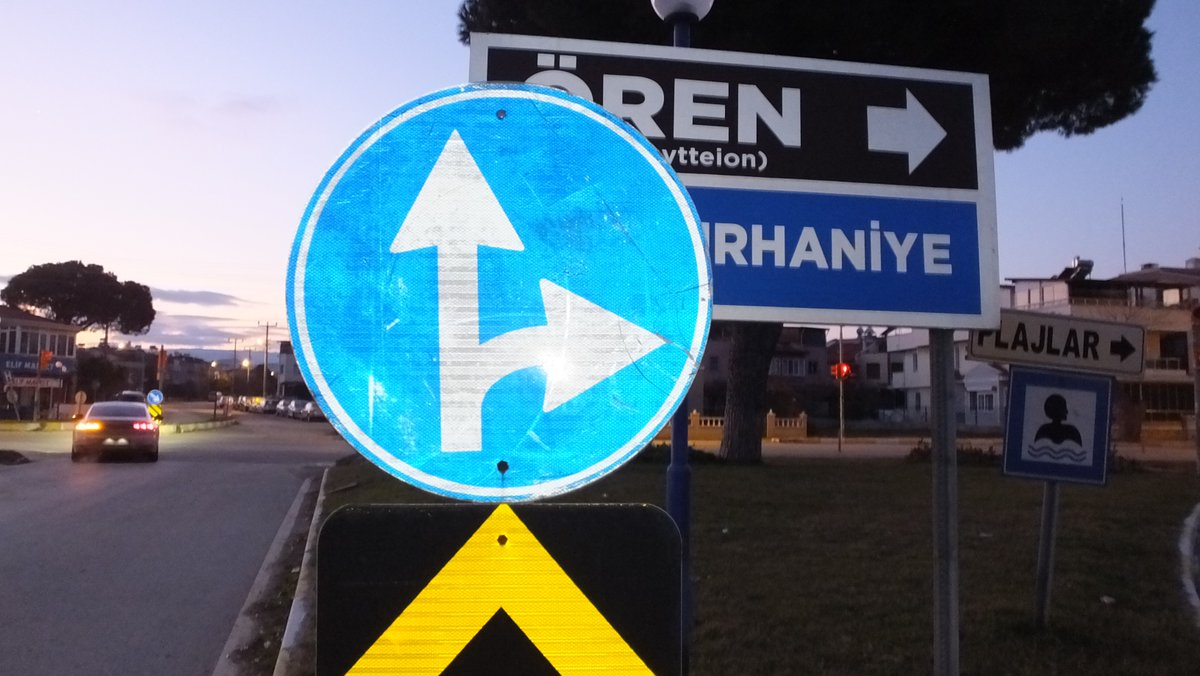ileri_veya_saga: (285, 83, 714, 508)
otomobil: (51, 400, 176, 476)
